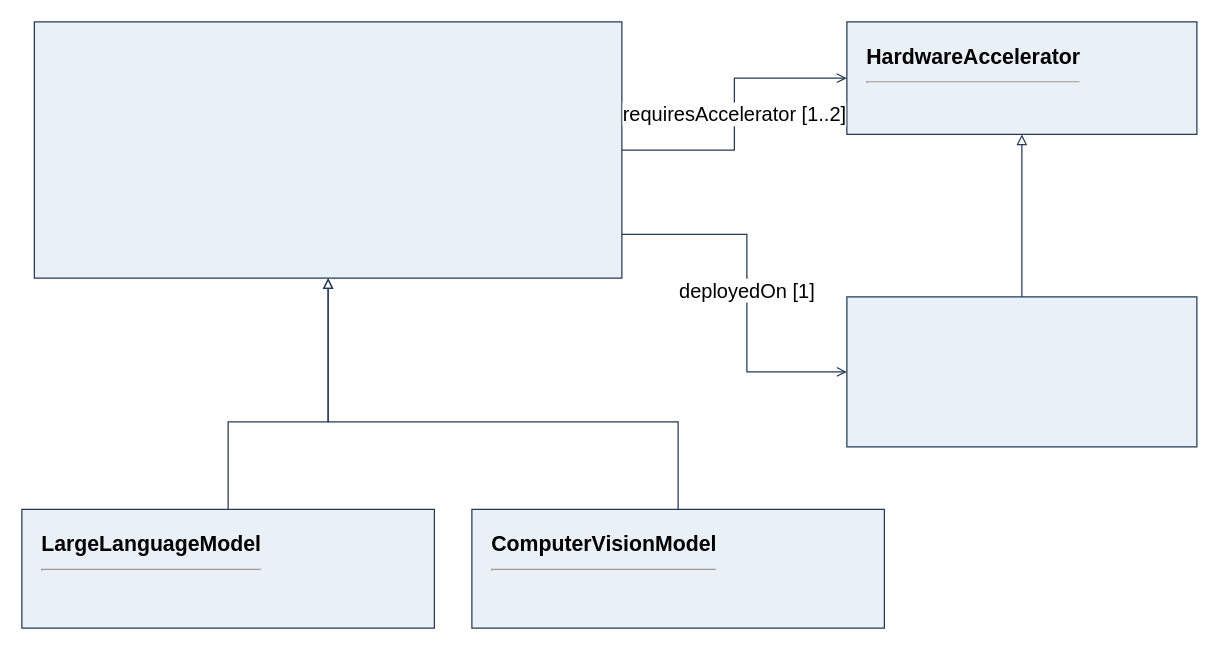
The diagram is 1219 pixels wide and 650 high, and some of its shapes have lost their labels. Here are the shapes that lost their labels. From the top down, the centre of each, then its label:
At (x=327, y=149): "MLModel hasParameterCountNum: long hasRequiredVRAM: integer".
At (x=1021, y=371): "GPU hasAvailableVRAM: integer".
